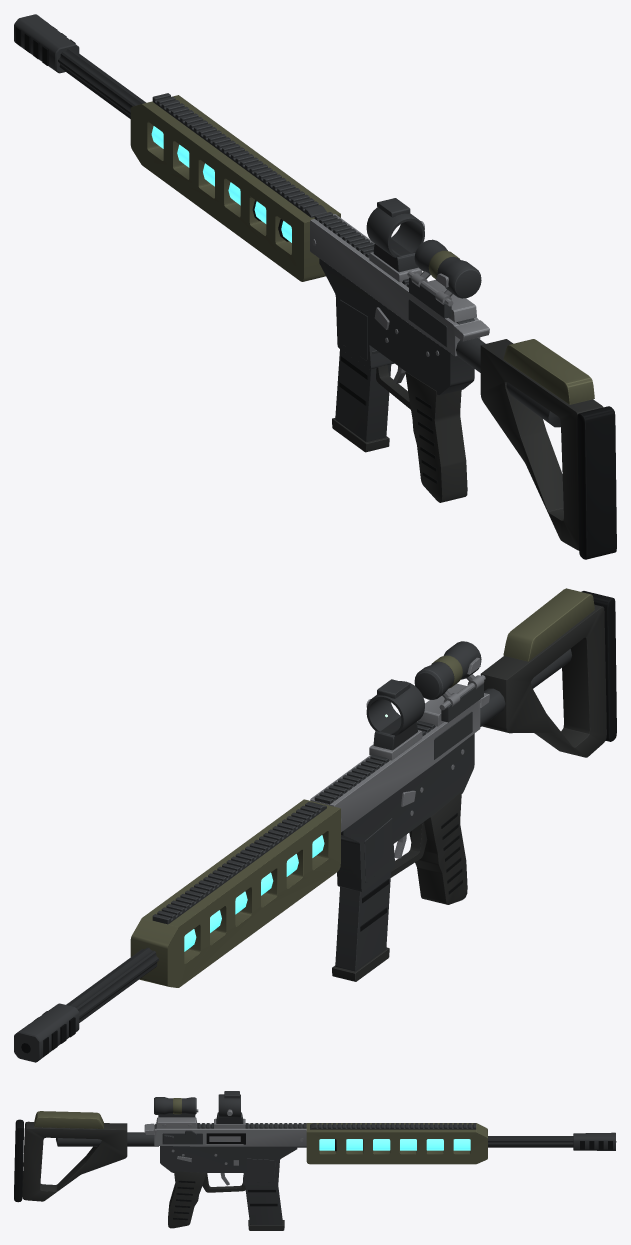
Rendered from dmr.glb.
The picture shows the model from 3 angles, top to bottom: view 1: azimuth 30°, elevation 25°; view 2: azimuth 150°, elevation 25°; view 3: azimuth 270°, elevation 25°; orthographic projection. The views are drawn at different scales.
Parts seen in each view (by area): view 1: Body, ThirdPersonOnly, Cell, Magnifier; view 2: Body, ThirdPersonOnly, Cell, Magnifier; view 3: Body, ThirdPersonOnly, Cell, Magnifier.
Part boxes in pixels (x1,y1,x2,y2): Body: [14, 14, 489, 502]; ThirdPersonOnly: [456, 338, 616, 559]; Cell: [332, 349, 391, 452]; Magnifier: [411, 239, 481, 304]; Body: [14, 675, 489, 1062]; ThirdPersonOnly: [480, 588, 616, 757]; Cell: [332, 870, 391, 981]; Magnifier: [414, 641, 484, 706]; Body: [144, 1091, 616, 1228]; ThirdPersonOnly: [14, 1111, 158, 1202]; Cell: [243, 1173, 284, 1230]; Magnifier: [154, 1097, 196, 1114].
Size of the model in its own units: 0.0622 by 0.319 by 1.3.
